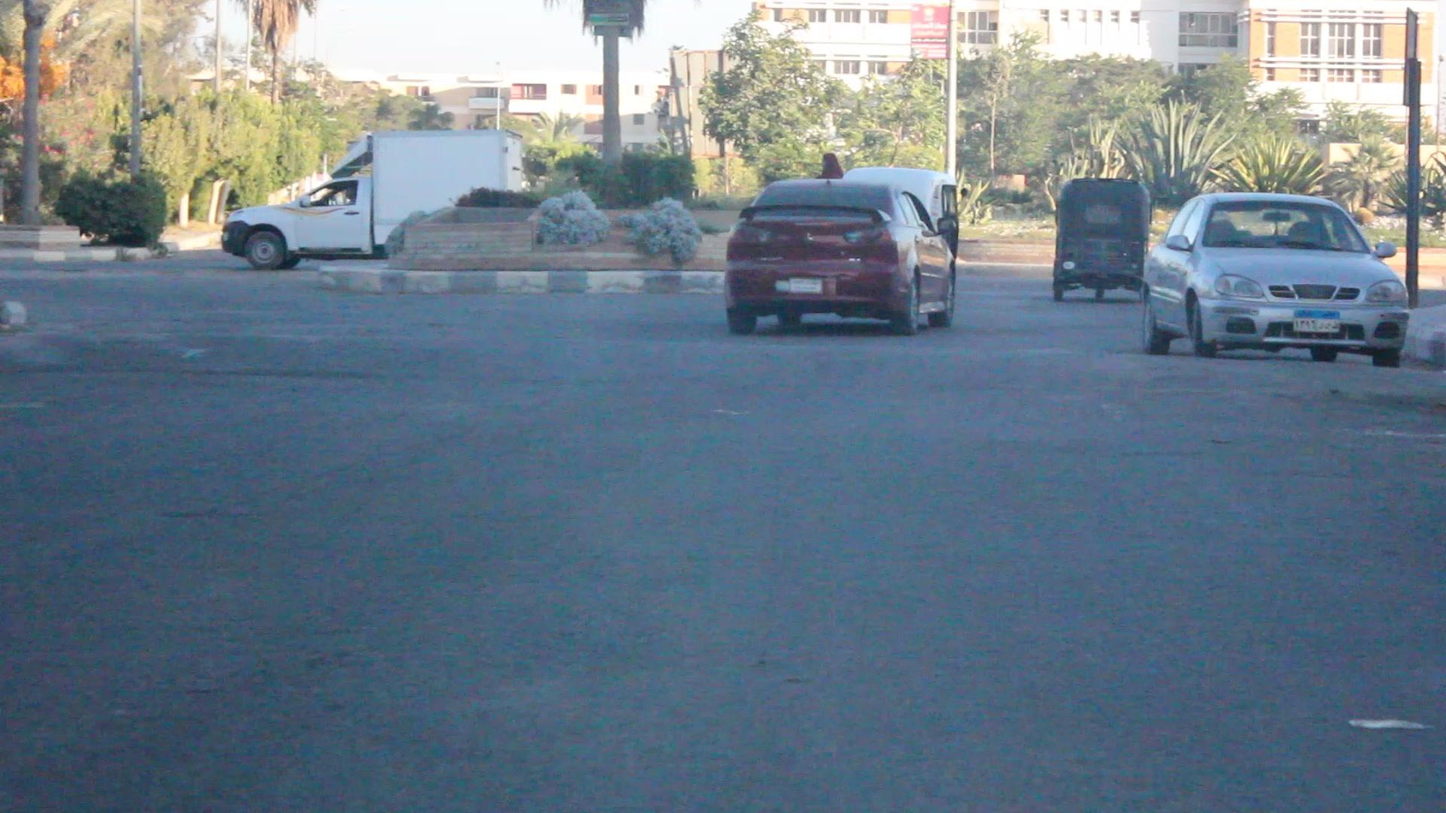Bump: (24, 324, 1446, 422)
